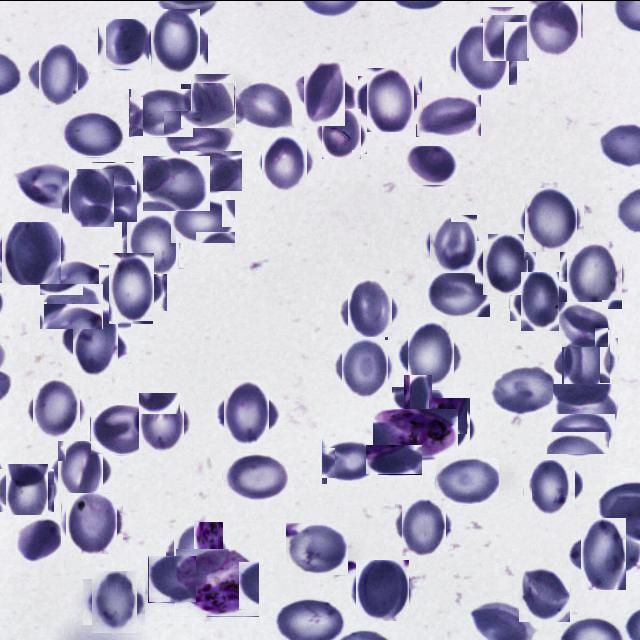difficult: (373, 408, 458, 458)
red blood cell: (563, 243, 625, 305), (451, 26, 513, 88), (0, 221, 62, 283), (143, 155, 210, 210), (490, 363, 557, 415), (574, 524, 633, 583), (66, 311, 125, 369), (102, 258, 161, 316), (522, 190, 581, 248), (354, 560, 412, 618), (124, 212, 182, 270), (218, 384, 276, 442), (402, 326, 460, 384), (146, 12, 204, 70), (164, 110, 235, 157), (553, 383, 617, 435), (170, 524, 227, 582), (19, 162, 84, 212), (222, 452, 288, 501), (286, 522, 348, 574), (64, 494, 120, 551), (525, 0, 582, 56), (90, 404, 153, 454), (558, 333, 614, 389), (362, 71, 418, 127), (426, 268, 490, 316), (130, 88, 193, 136), (235, 80, 292, 133), (435, 457, 499, 504), (338, 339, 392, 394), (60, 110, 124, 156), (39, 283, 103, 329), (343, 283, 397, 337), (87, 574, 141, 628), (478, 236, 532, 290), (135, 396, 189, 450), (186, 77, 239, 132), (41, 258, 99, 308), (53, 443, 107, 496), (518, 566, 571, 620), (31, 382, 84, 436), (170, 199, 235, 243), (546, 413, 615, 454), (426, 217, 479, 270), (88, 164, 140, 218), (398, 499, 450, 552), (298, 66, 350, 119), (416, 94, 481, 136), (528, 462, 580, 514), (258, 136, 310, 188), (66, 172, 118, 224), (321, 438, 378, 484), (98, 18, 149, 69), (33, 48, 84, 98), (480, 8, 530, 58), (180, 150, 242, 190), (425, 401, 475, 450), (555, 301, 608, 347), (515, 276, 564, 325), (3, 466, 51, 514), (14, 514, 64, 560), (148, 555, 196, 602), (404, 145, 457, 185), (319, 111, 364, 156), (365, 444, 422, 474), (398, 380, 439, 420)
schizont: (175, 548, 259, 616)
